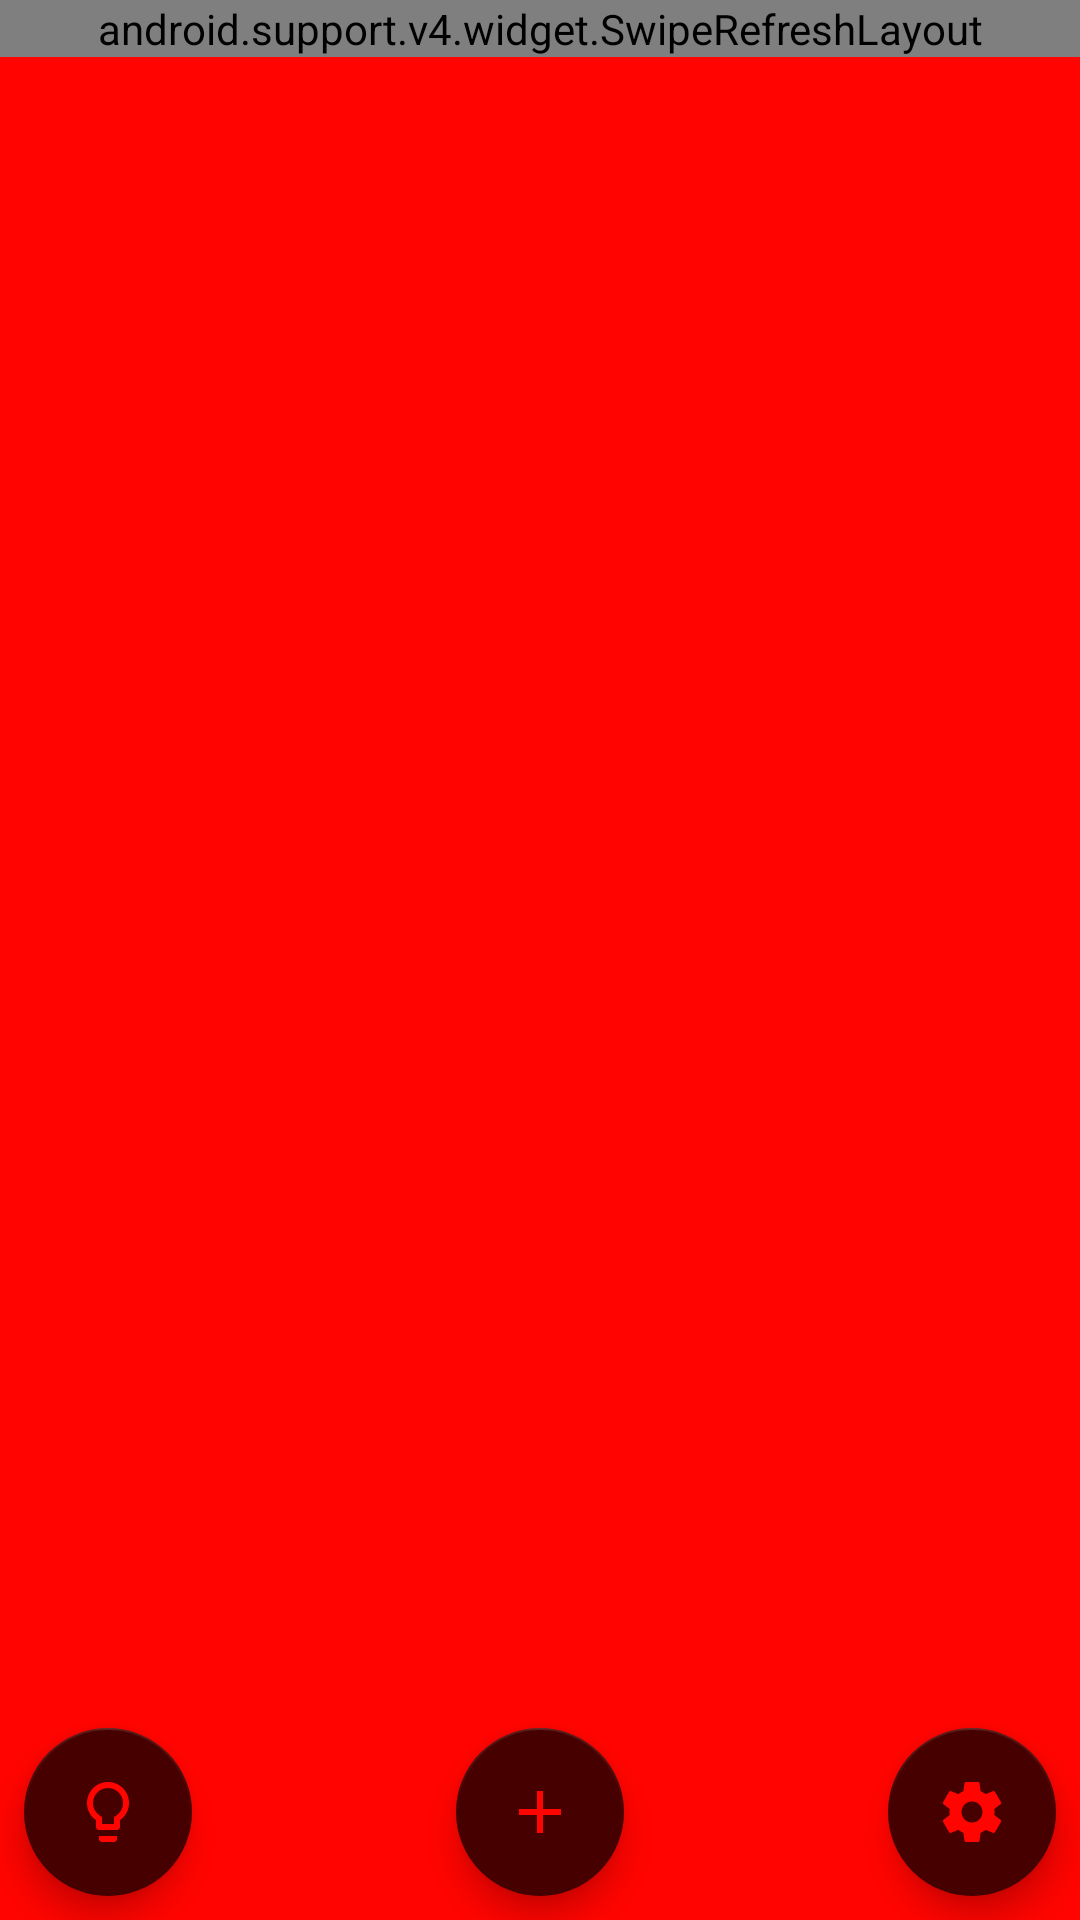

Icon click points for this 1080px x 1920px phone screenshot, format (x=x, y=y):
add: (x=540, y=1812)
lightbulb: (x=108, y=1812)
settings: (x=972, y=1812)
